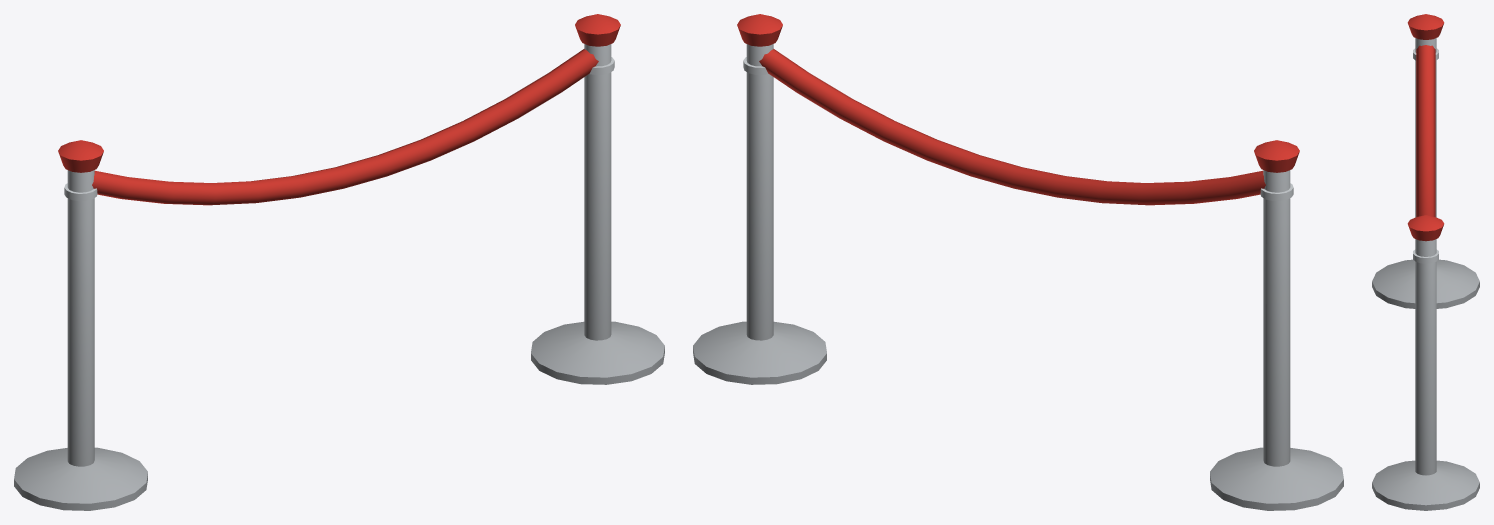
The model's file is SM_Stanchion_Rope_01.glb.
3 renders of one model, left to right at view 1: azimuth 30°, elevation 25°; view 2: azimuth 150°, elevation 25°; view 3: azimuth 270°, elevation 25°, orthographic. The views are drawn at different scales.
Parts seen in each view (by area): view 1: SM_Stanchion_Rope_01; view 2: SM_Stanchion_Rope_01; view 3: SM_Stanchion_Rope_01.
Boxes of the visible parts, x1,y1,x2,y2 form: SM_Stanchion_Rope_01: (14,14,664,510); SM_Stanchion_Rope_01: (693,14,1343,510); SM_Stanchion_Rope_01: (1372,14,1479,510).
Bounding box in the file's own units: 1.84 × 0.95 × 0.34.
Materials: 1 (1 with a texture image).
